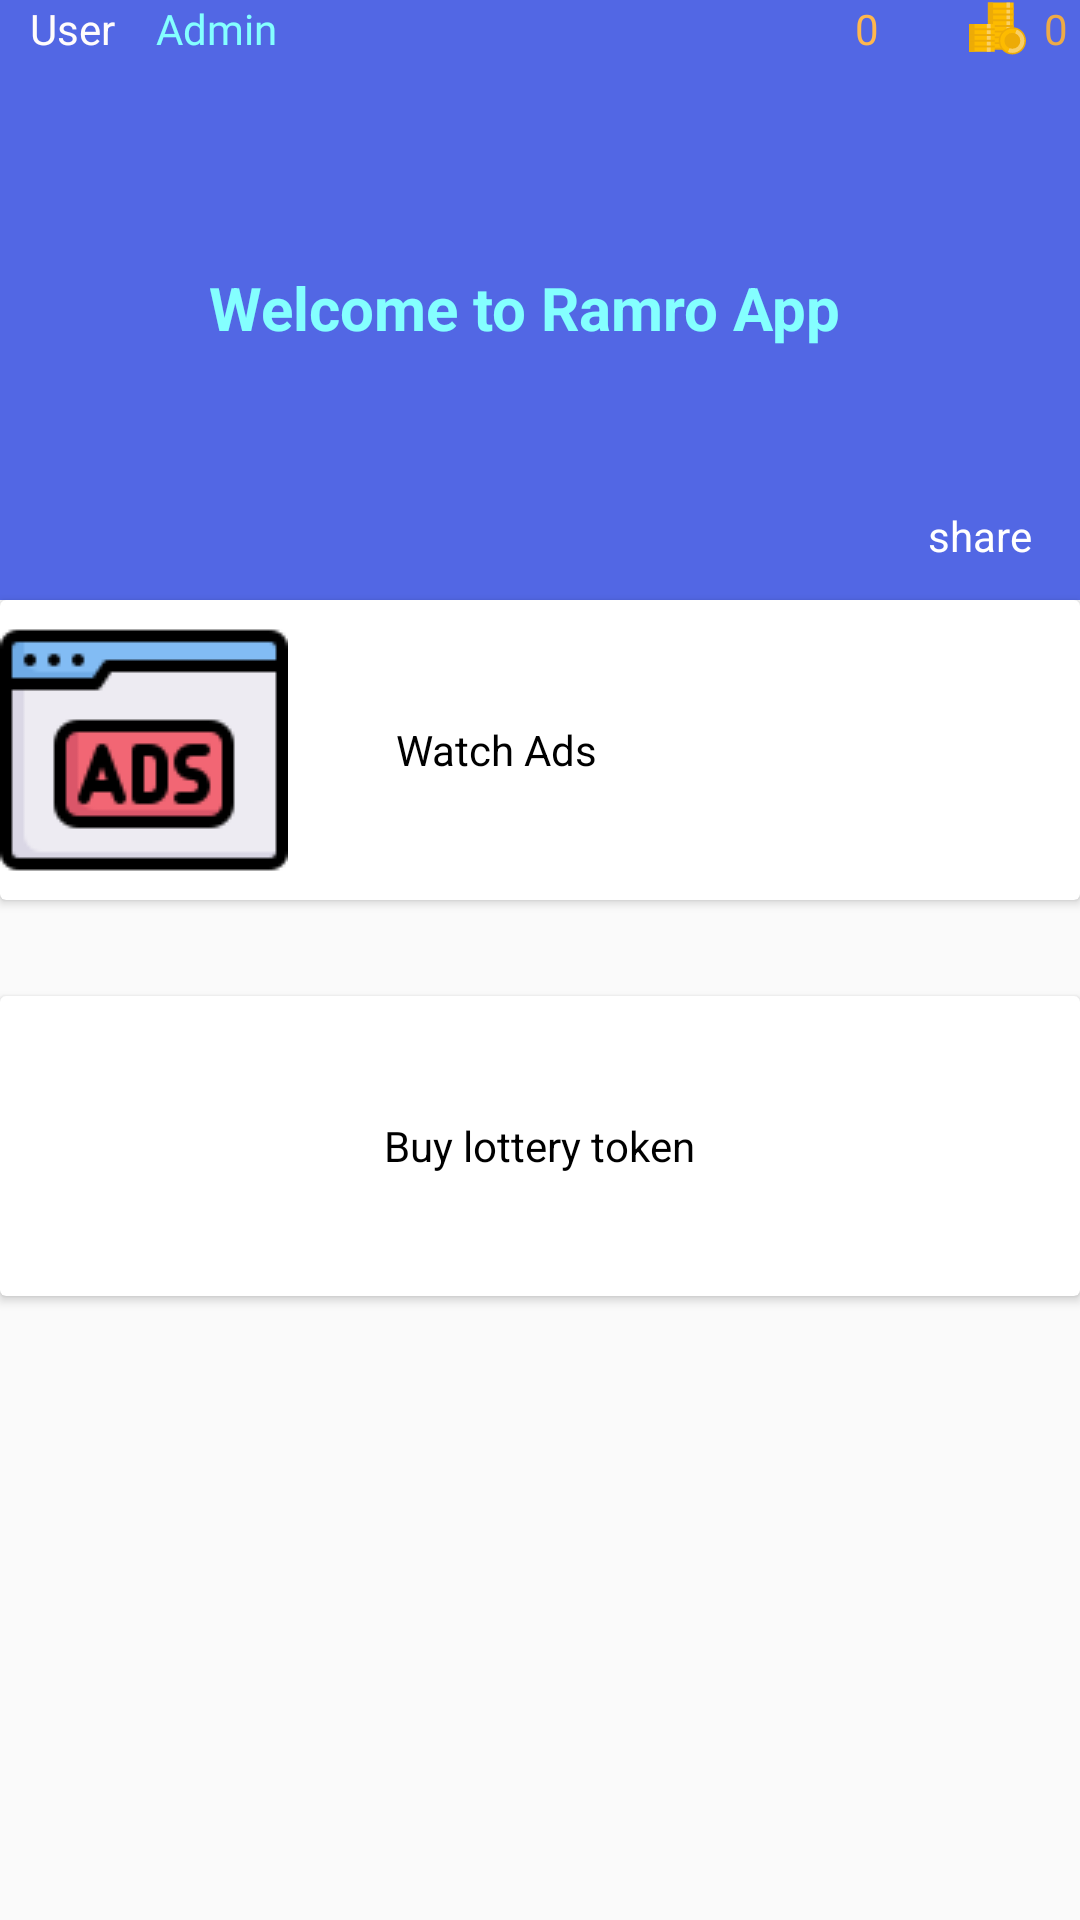

Icon bounding boxes for this 1080*1920 phone screenshot, format (x1, y1, x2, y2):
coins cash: (969, 2, 1026, 55)
